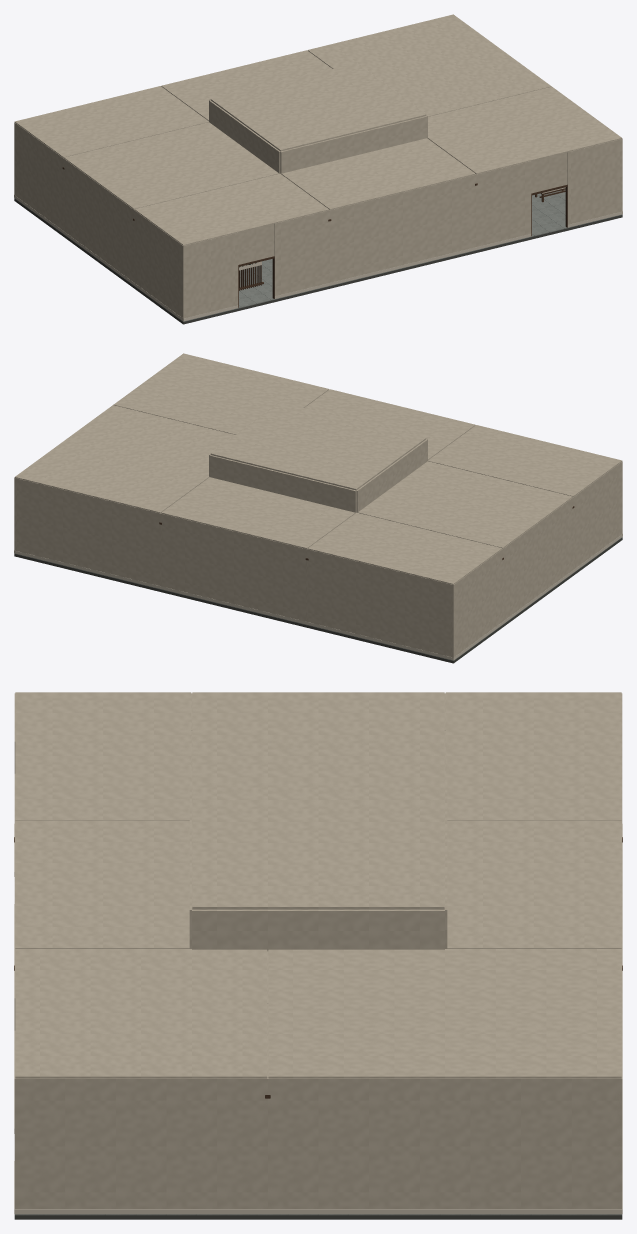
The model's file is 保国寺VR数字斗拱展厅_V01_无摄像机.fbx.
3 renders of one model, top to bottom at view 1: azimuth 30°, elevation 25°; view 2: azimuth 150°, elevation 25°; view 3: azimuth 270°, elevation 25°, orthographic. The views are drawn at different scales.
Parts seen in each view (by area): view 1: Outer_S_1, Zone06_CeilingBacking, Outer_W, Zone05_CeilingBacking, Zone02_CeilingBacking, Zone07_CeilingBacking, Zone01_CeilingBacking, Zone08_CeilingBacking, Zone03_CeilingBacking, Outer_S_0, Outer_S_2, Zone04_CeilingBacking (+7 smaller); view 2: Outer_N, Zone06_CeilingBacking, Outer_W, Zone05_CeilingBacking, Zone02_CeilingBacking, Zone07_CeilingBacking, Zone03_CeilingBacking, Zone04_CeilingBacking, Zone01_CeilingBacking, Zone08_CeilingBacking, Main_Upper_N, Floor_GroutBed (+3 smaller); view 3: Outer_E, Zone06_CeilingBacking, Zone05_CeilingBacking, Zone07_CeilingBacking, Zone01_CeilingBacking, Zone03_CeilingBacking, Zone04_CeilingBacking, Zone08_CeilingBacking, Zone02_CeilingBacking, Main_Upper_E, Outer_E_base, Floor_GroutBed (+1 smaller).
Part boxes in pixels (box(x1,y1,x2,y2)): Outer_S_1: box(274, 161, 531, 296); Zone06_CeilingBacking: box(307, 14, 551, 116); Outer_W: box(14, 123, 186, 318); Zone05_CeilingBacking: box(210, 63, 426, 151); Zone02_CeilingBacking: box(64, 122, 278, 209); Zone07_CeilingBacking: box(427, 86, 622, 174); Zone01_CeilingBacking: box(134, 173, 329, 245); Zone08_CeilingBacking: box(281, 138, 475, 209); Zone03_CeilingBacking: box(14, 86, 208, 157); Outer_S_0: box(181, 232, 238, 318); Outer_S_2: box(567, 139, 622, 224); Zone04_CeilingBacking: box(161, 50, 332, 120); Outer_N: box(17, 478, 455, 656); Zone06_CeilingBacking: box(14, 405, 235, 513); Outer_W: box(450, 462, 622, 657); Zone05_CeilingBacking: box(210, 402, 426, 490); Zone02_CeilingBacking: box(358, 461, 572, 548); Zone07_CeilingBacking: box(113, 353, 329, 434); Zone03_CeilingBacking: box(307, 512, 502, 584); Zone04_CeilingBacking: box(161, 477, 355, 548); Zone01_CeilingBacking: box(428, 425, 622, 496); Zone08_CeilingBacking: box(304, 389, 475, 459); Main_Upper_N: box(209, 455, 356, 512); Floor_GroutBed: box(14, 537, 622, 663); Outer_E: box(14, 1076, 622, 1208); Zone06_CeilingBacking: box(268, 949, 621, 1078); Zone05_CeilingBacking: box(192, 779, 444, 909); Zone07_CeilingBacking: box(15, 949, 267, 1078); Zone01_CeilingBacking: box(15, 692, 191, 820); Zone03_CeilingBacking: box(445, 692, 621, 820); Zone04_CeilingBacking: box(447, 820, 621, 948); Zone08_CeilingBacking: box(15, 820, 189, 948); Zone02_CeilingBacking: box(192, 692, 444, 779); Main_Upper_E: box(192, 909, 444, 951); Outer_E_base: box(14, 1206, 622, 1214); Floor_GroutBed: box(14, 1214, 622, 1219).
Bounding box in the file's own units: 36.05 × 8.02 × 24.05.
11 materials, 3 textured.
